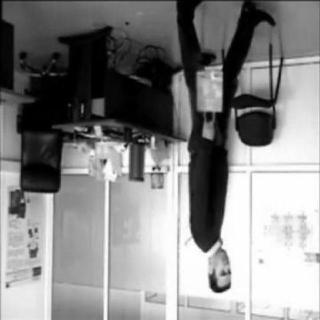other: (191, 62, 229, 122)
